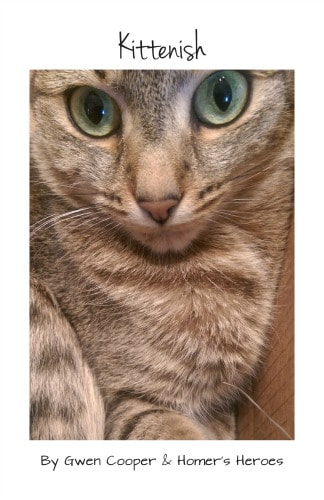cat: (31, 70, 294, 439)
